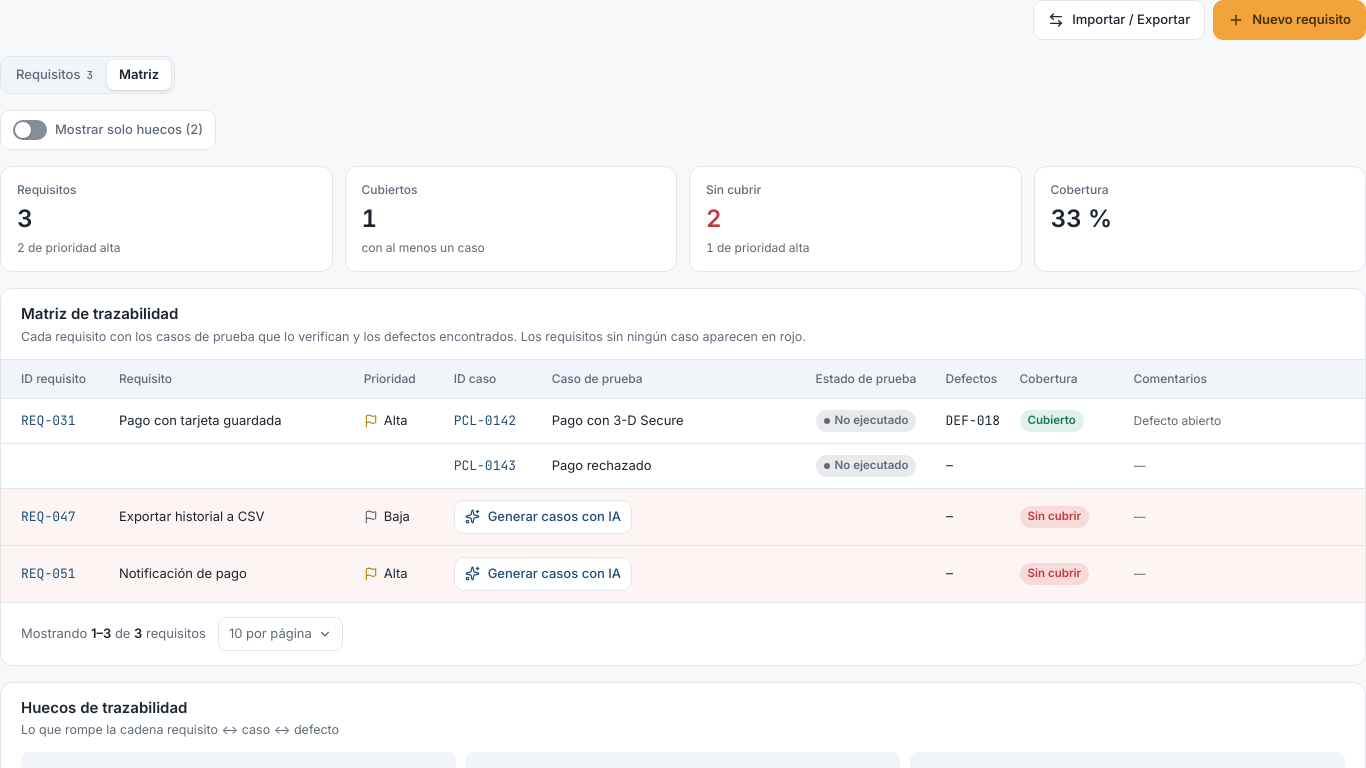
Scenario: Trazabilidad (RED-V3) › opens the existing AI generator from an uncovered requirement
What coordinates should you click on to do the following:
click the button with aria-label "Generar casos con IA desde REQ-051"
I would click on:
 (543, 574)
Its box is [454,556,632,590].
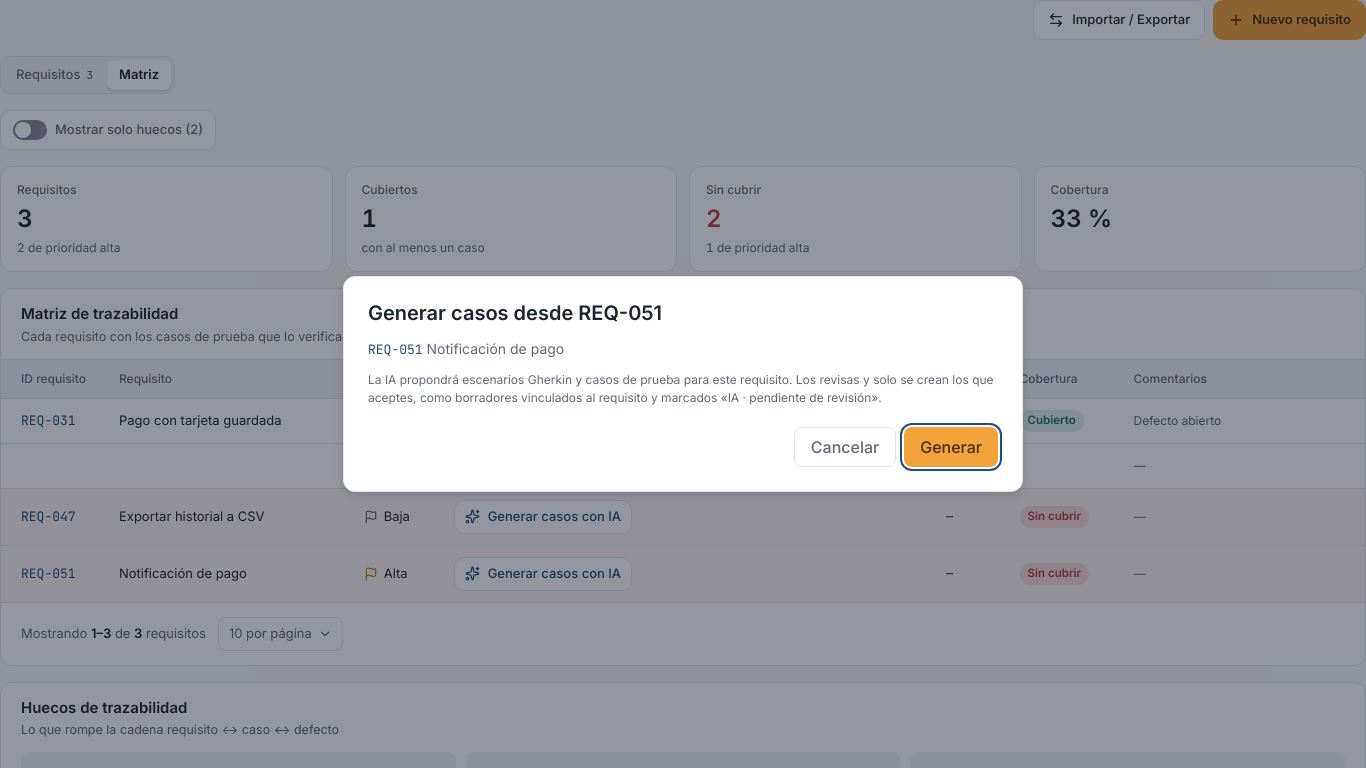
expect the dialog shows "Generar casos desde REQ-051": met, box [368,301,662,325]
